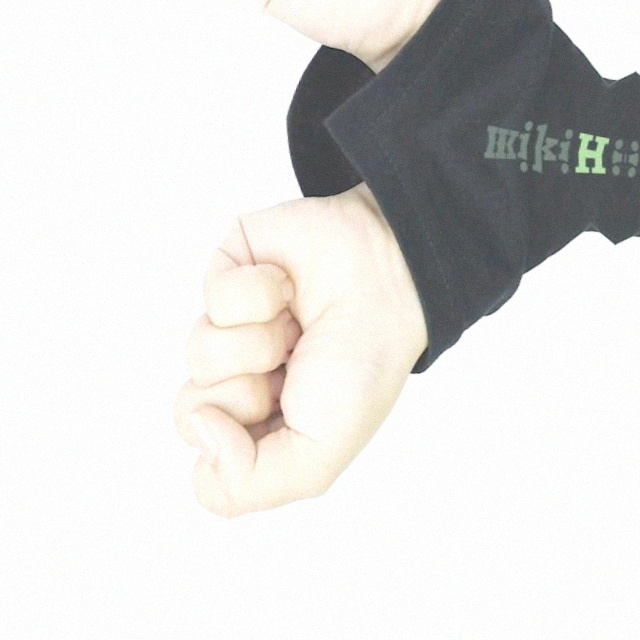Rock: (128, 165, 456, 551)
